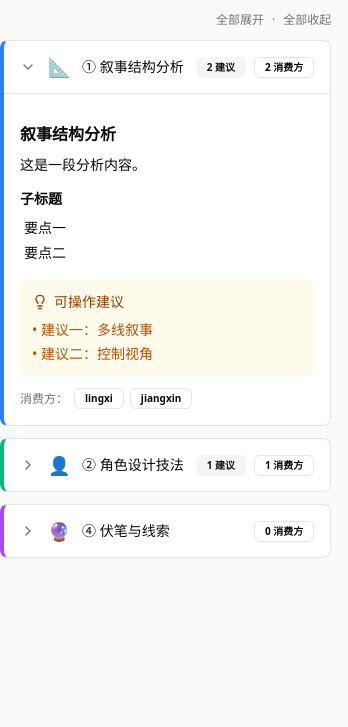
Scenario: DimensionReport › toggles dimension expand/collapse
// Click second dimension to expand it
Click the text "② 角色设计技法" at (133, 465), box [82, 455, 184, 475]
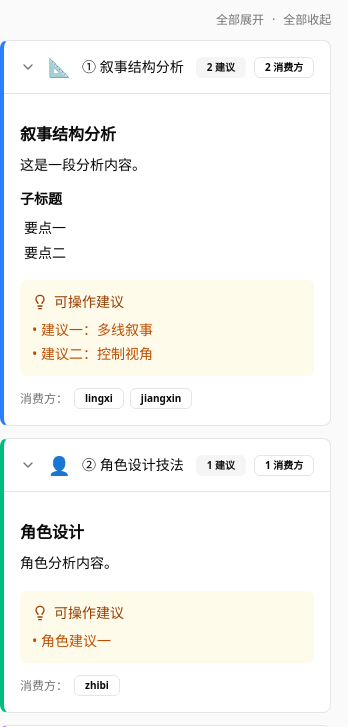
Now the list item "• 角色建议一" is shown, box [32, 631, 111, 650]
